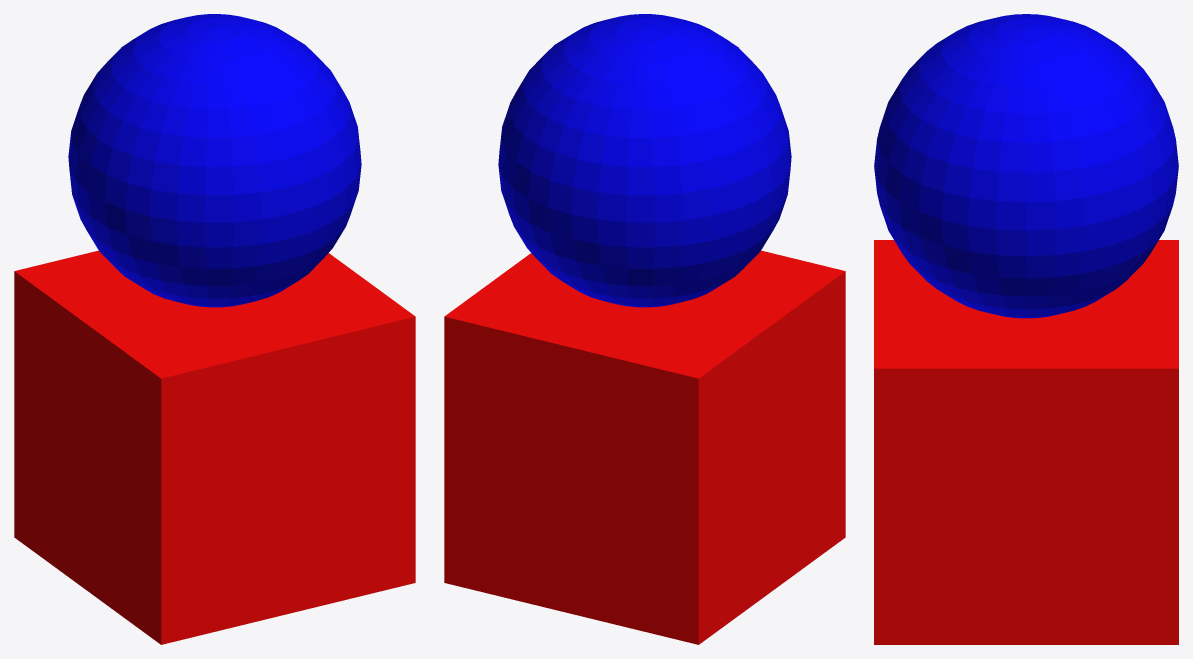
The model's file is test_split.fbx.
The picture shows the model from 3 angles, left to right: view 1: azimuth 30°, elevation 25°; view 2: azimuth 150°, elevation 25°; view 3: azimuth 270°, elevation 25°; orthographic projection. The views are drawn at different scales.
Visible parts, largest first — view 1: Cube, Sphere; view 2: Cube, Sphere; view 3: Cube, Sphere.
Boxes of the visible parts, bbox=[...] form: Cube: bbox=[14, 250, 415, 644]; Sphere: bbox=[68, 14, 361, 307]; Cube: bbox=[444, 250, 845, 644]; Sphere: bbox=[498, 14, 791, 307]; Cube: bbox=[874, 240, 1178, 644]; Sphere: bbox=[874, 14, 1178, 318].
Bounding box in the file's own units: 200 × 400 × 200.
